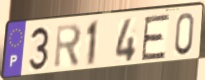0: (174, 12, 196, 57)
1: (85, 19, 102, 69)
3: (26, 24, 52, 74)
4: (114, 17, 137, 64)
E: (140, 12, 172, 62)
R: (53, 22, 84, 71)
